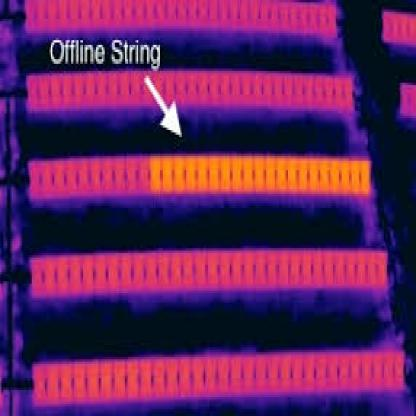Defects: (205, 168, 234, 192), (253, 166, 279, 184), (176, 164, 192, 193), (154, 161, 166, 189)
